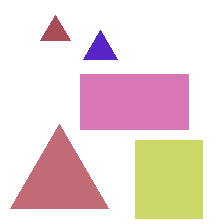rectangle: (80, 74, 188, 129), (135, 140, 202, 218)
triangle: (10, 124, 108, 208), (83, 30, 117, 59), (40, 15, 70, 40)
